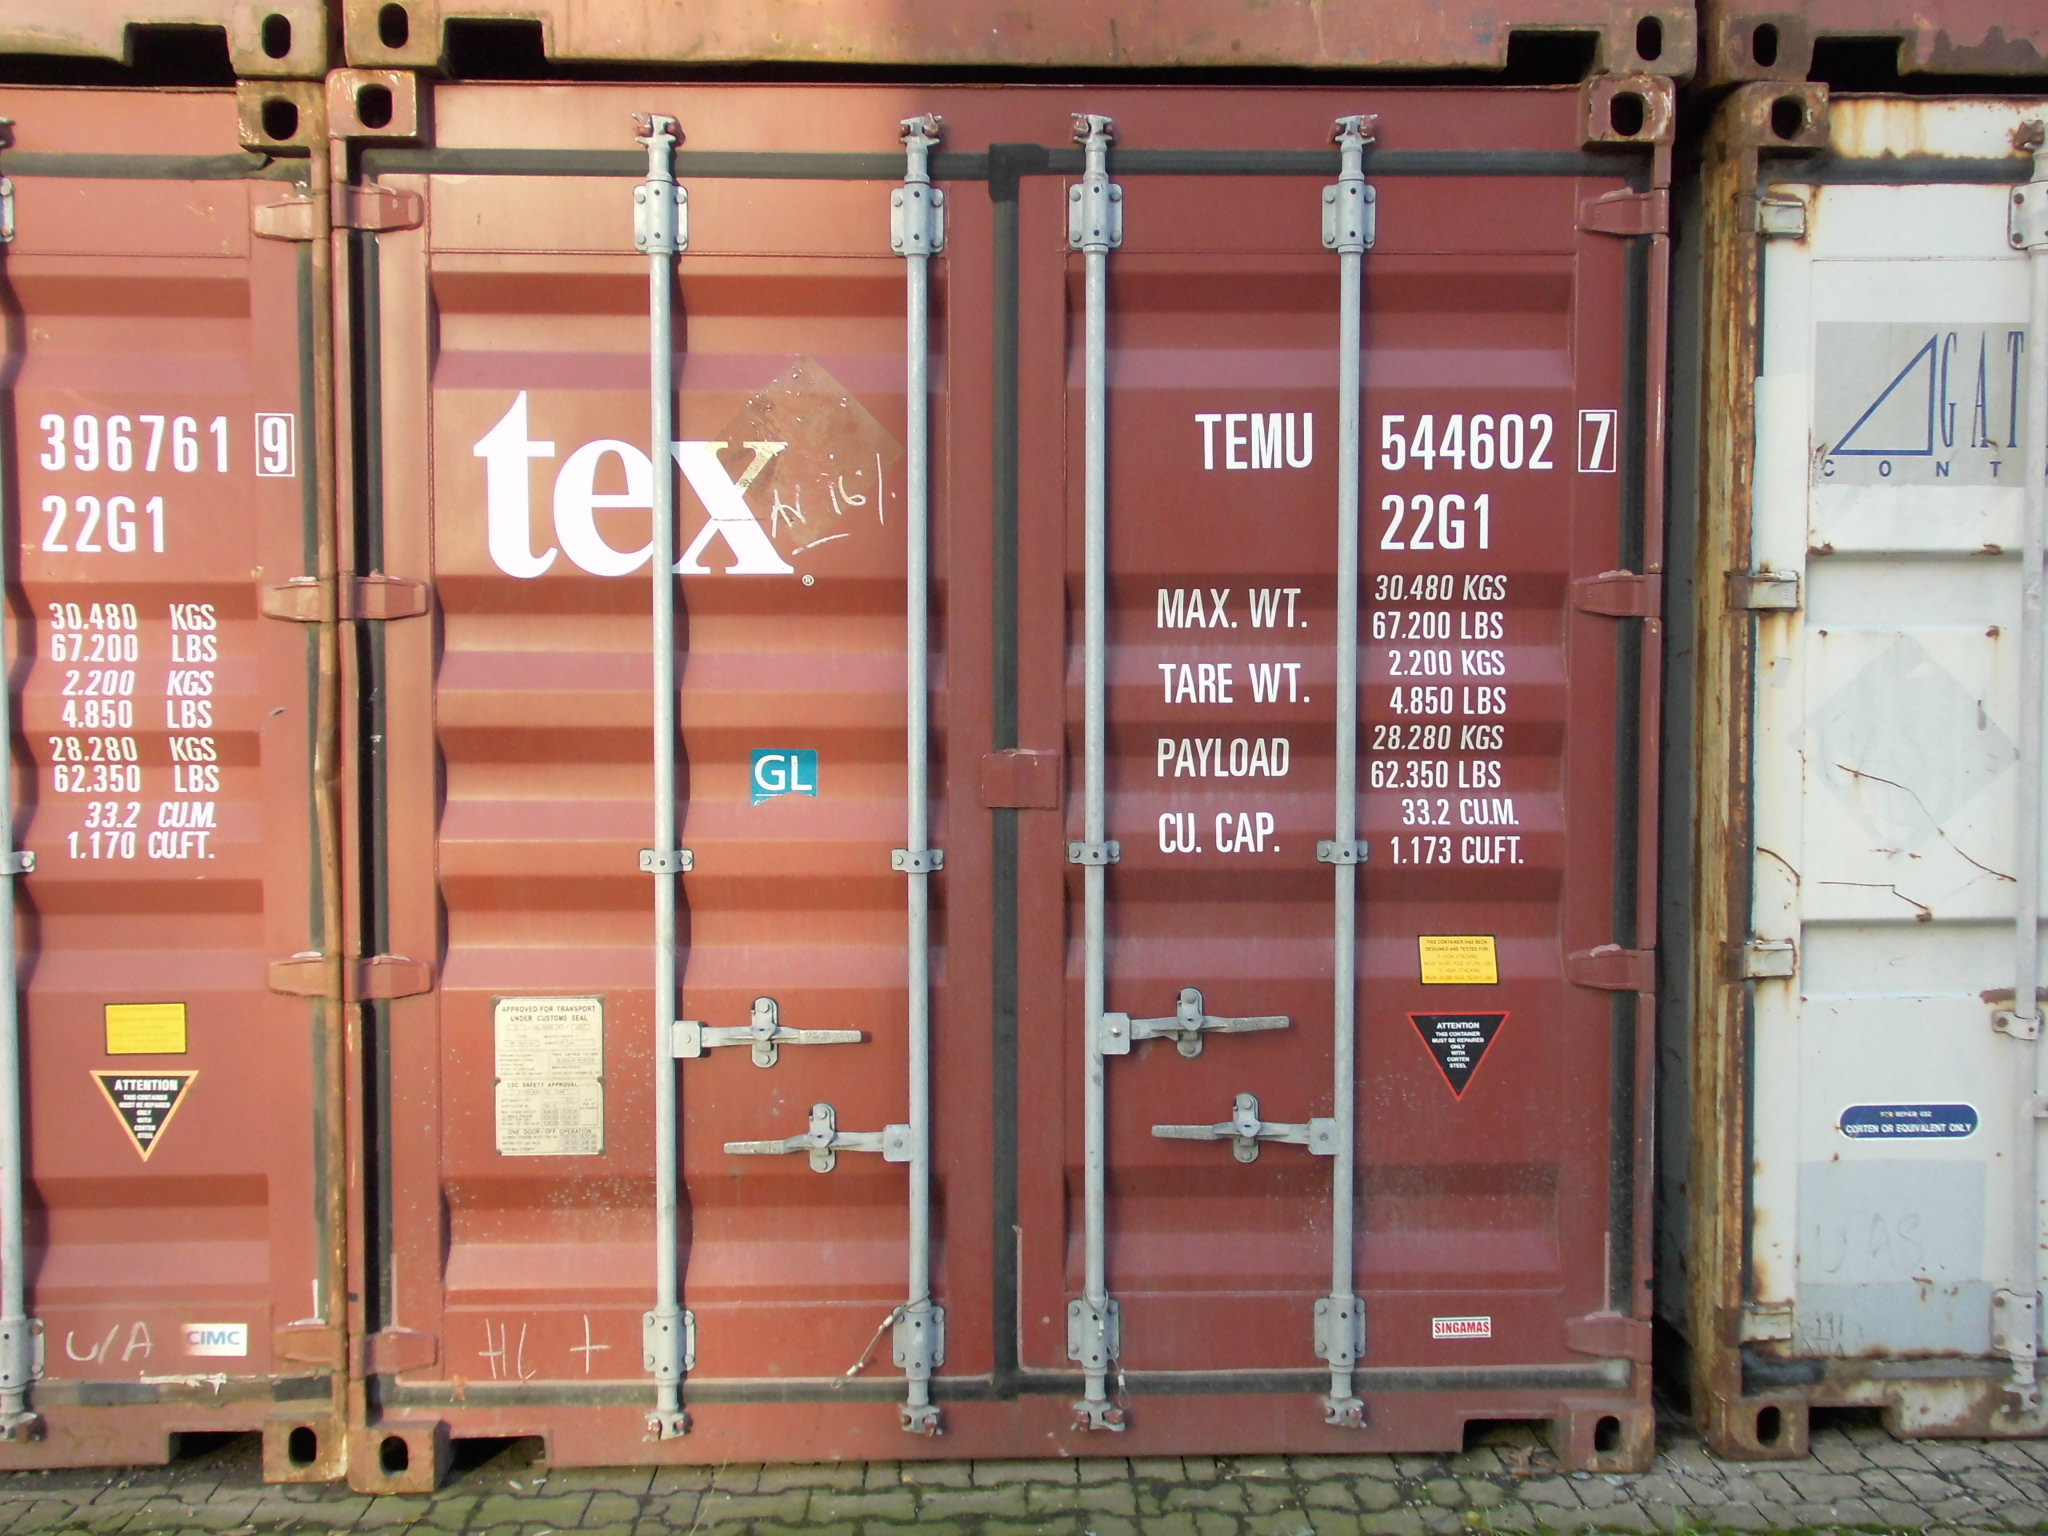container_door: (342, 65, 1661, 1483)
